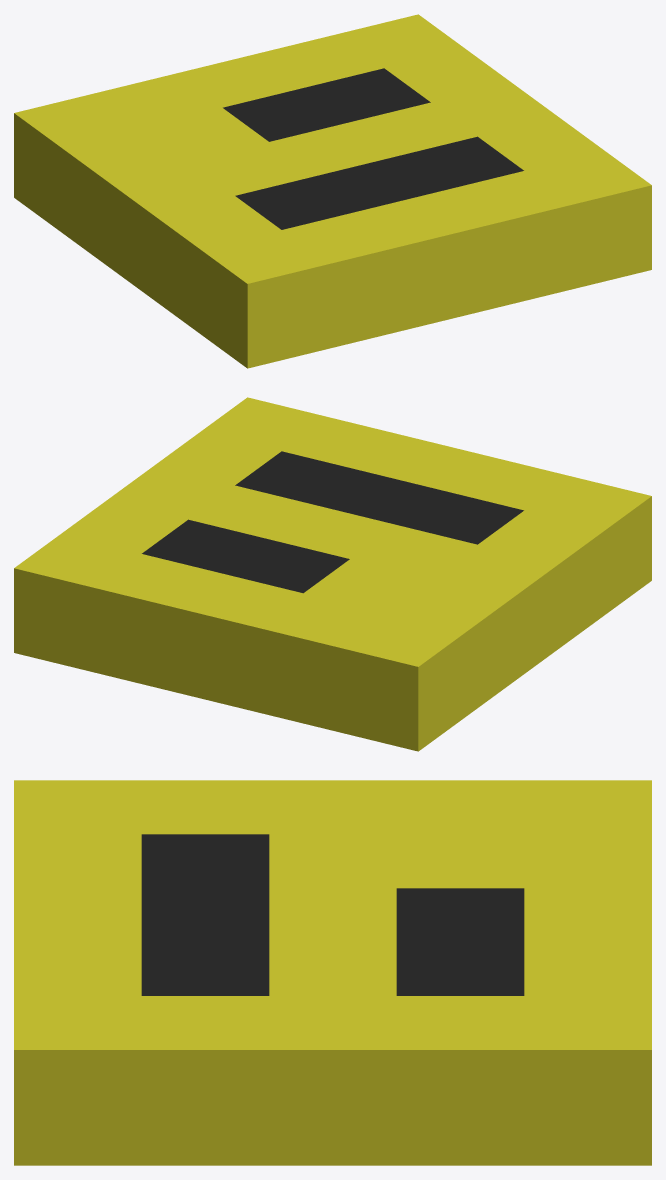
File: note_02.dae
3 renders of one model, top to bottom at view 1: azimuth 30°, elevation 25°; view 2: azimuth 150°, elevation 25°; view 3: azimuth 270°, elevation 25°, orthographic. The views are drawn at different scales.
Visible parts, largest first — view 1: Untitled; view 2: Untitled; view 3: Untitled.
Boxes of the visible parts, x1,y1,x2,y2 form: Untitled: (14,14,651,368); Untitled: (14,397,651,751); Untitled: (14,780,651,1165).
Size of the model in its own units: 0.15 by 0.15 by 0.03.
1 material, 1 textured.
